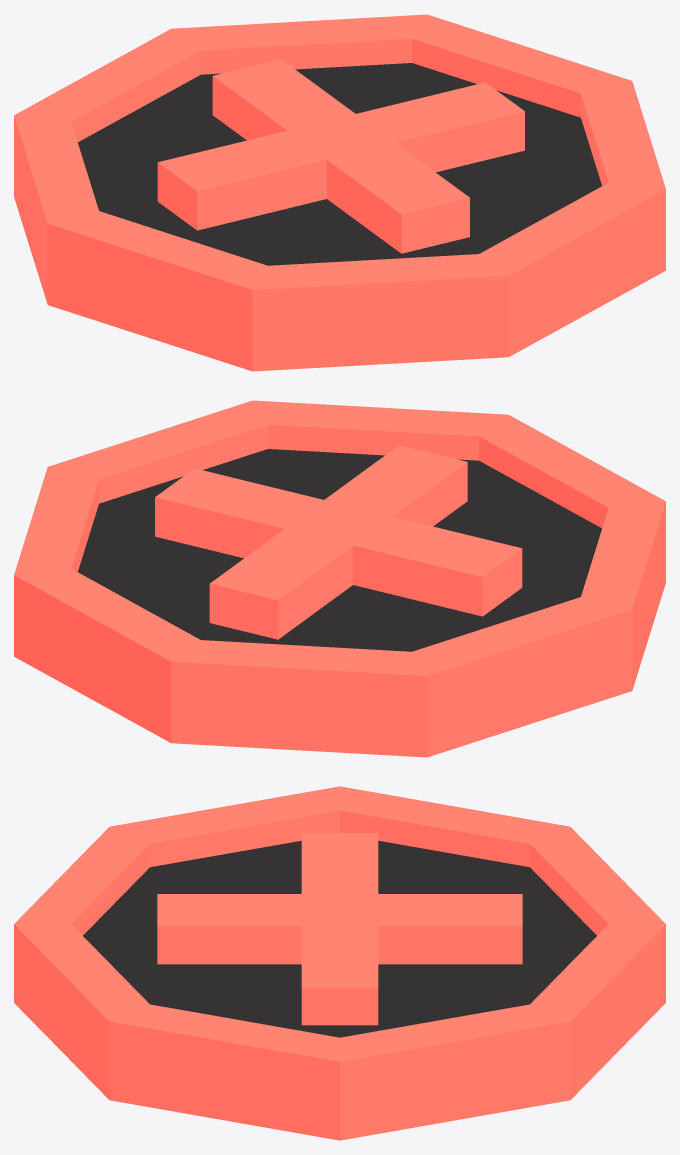
The model's file is Powerup_PlusIcon.fbx.
3 views of the same model, one above another, from view 1: azimuth 30°, elevation 25°; view 2: azimuth 150°, elevation 25°; view 3: azimuth 270°, elevation 25° (orthographic). The views are drawn at different scales.
Parts seen in each view (by area): view 1: Circle.015; view 2: Circle.015; view 3: Circle.015.
Part boxes in pixels (x1,y1,x2,y2): Circle.015: [14, 14, 665, 371]; Circle.015: [14, 400, 665, 757]; Circle.015: [14, 786, 665, 1140].
Bounding box in the file's own units: 357 × 66.03 × 357.
